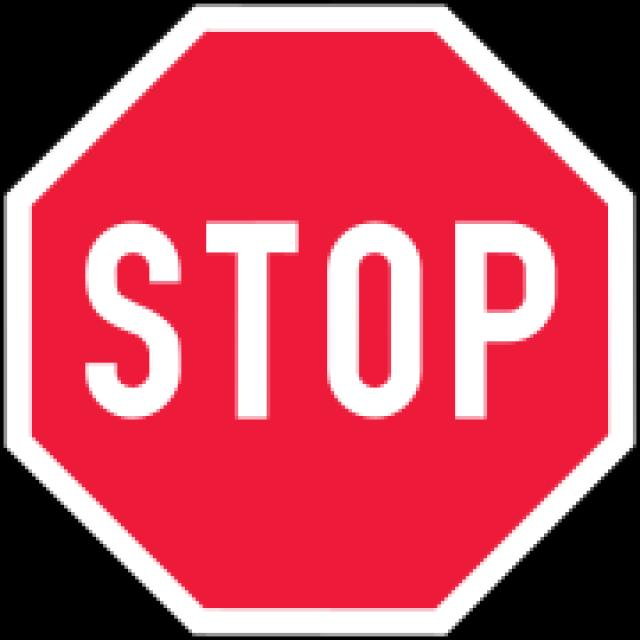Traffic sign: (41, 6, 600, 608)
